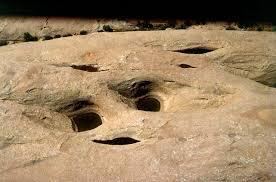pothole: (33, 96, 102, 138), (113, 76, 169, 115), (169, 39, 220, 58), (90, 132, 143, 149), (62, 60, 109, 75), (173, 61, 197, 71)
